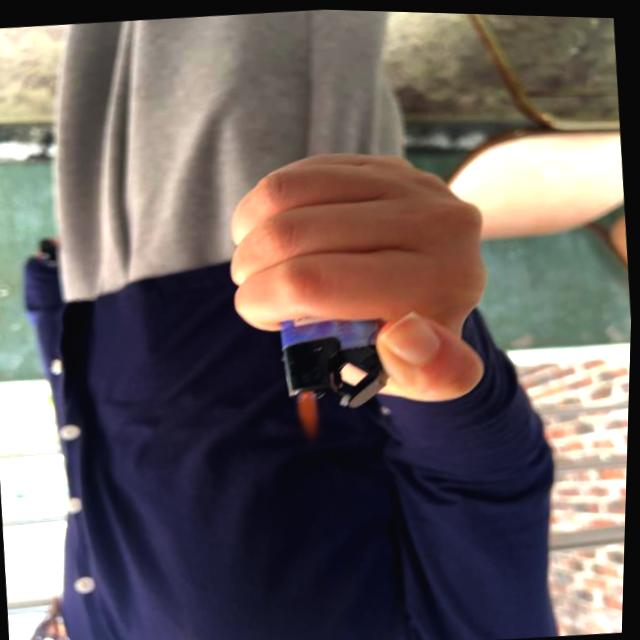Fire: (291, 385, 327, 438)
